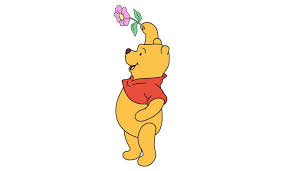Winnie: (119, 27, 171, 114)
